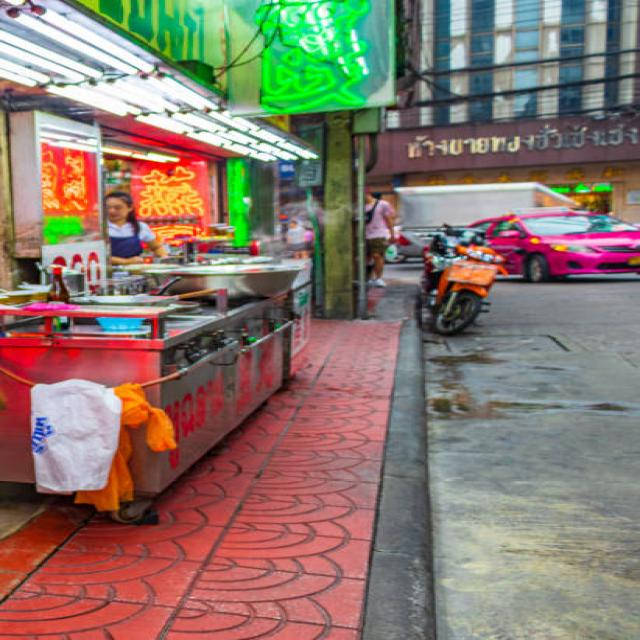Emperan: (0, 0, 352, 533)
